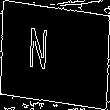N_S: (44, 28, 66, 82)
